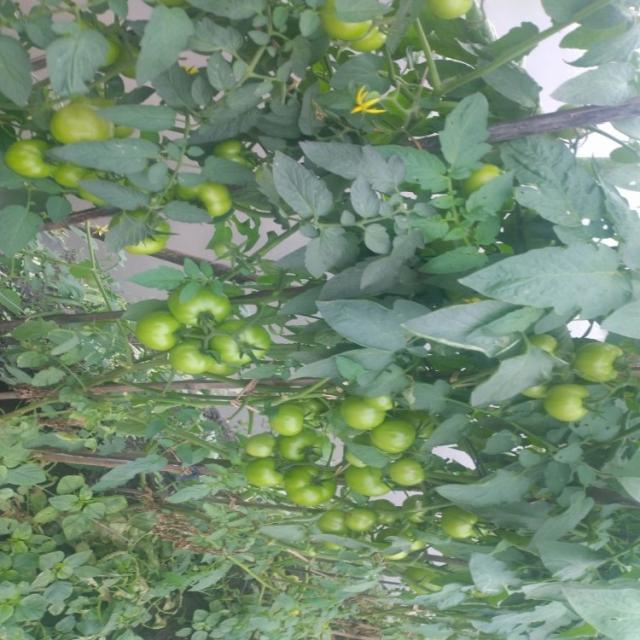tomato: (313, 1, 398, 64), (208, 314, 276, 378), (165, 283, 238, 340), (574, 335, 632, 394), (126, 306, 188, 356), (182, 174, 238, 229), (52, 102, 116, 148), (1, 133, 60, 182), (288, 456, 332, 514), (336, 464, 391, 506), (244, 452, 295, 497), (551, 381, 592, 436), (266, 398, 321, 439), (365, 425, 422, 464), (339, 394, 387, 437), (209, 133, 259, 173), (385, 454, 432, 496), (172, 333, 215, 378), (438, 503, 484, 542), (132, 213, 173, 256), (278, 424, 321, 463), (348, 497, 382, 538), (310, 507, 352, 540), (242, 432, 282, 466), (419, 1, 488, 19)
